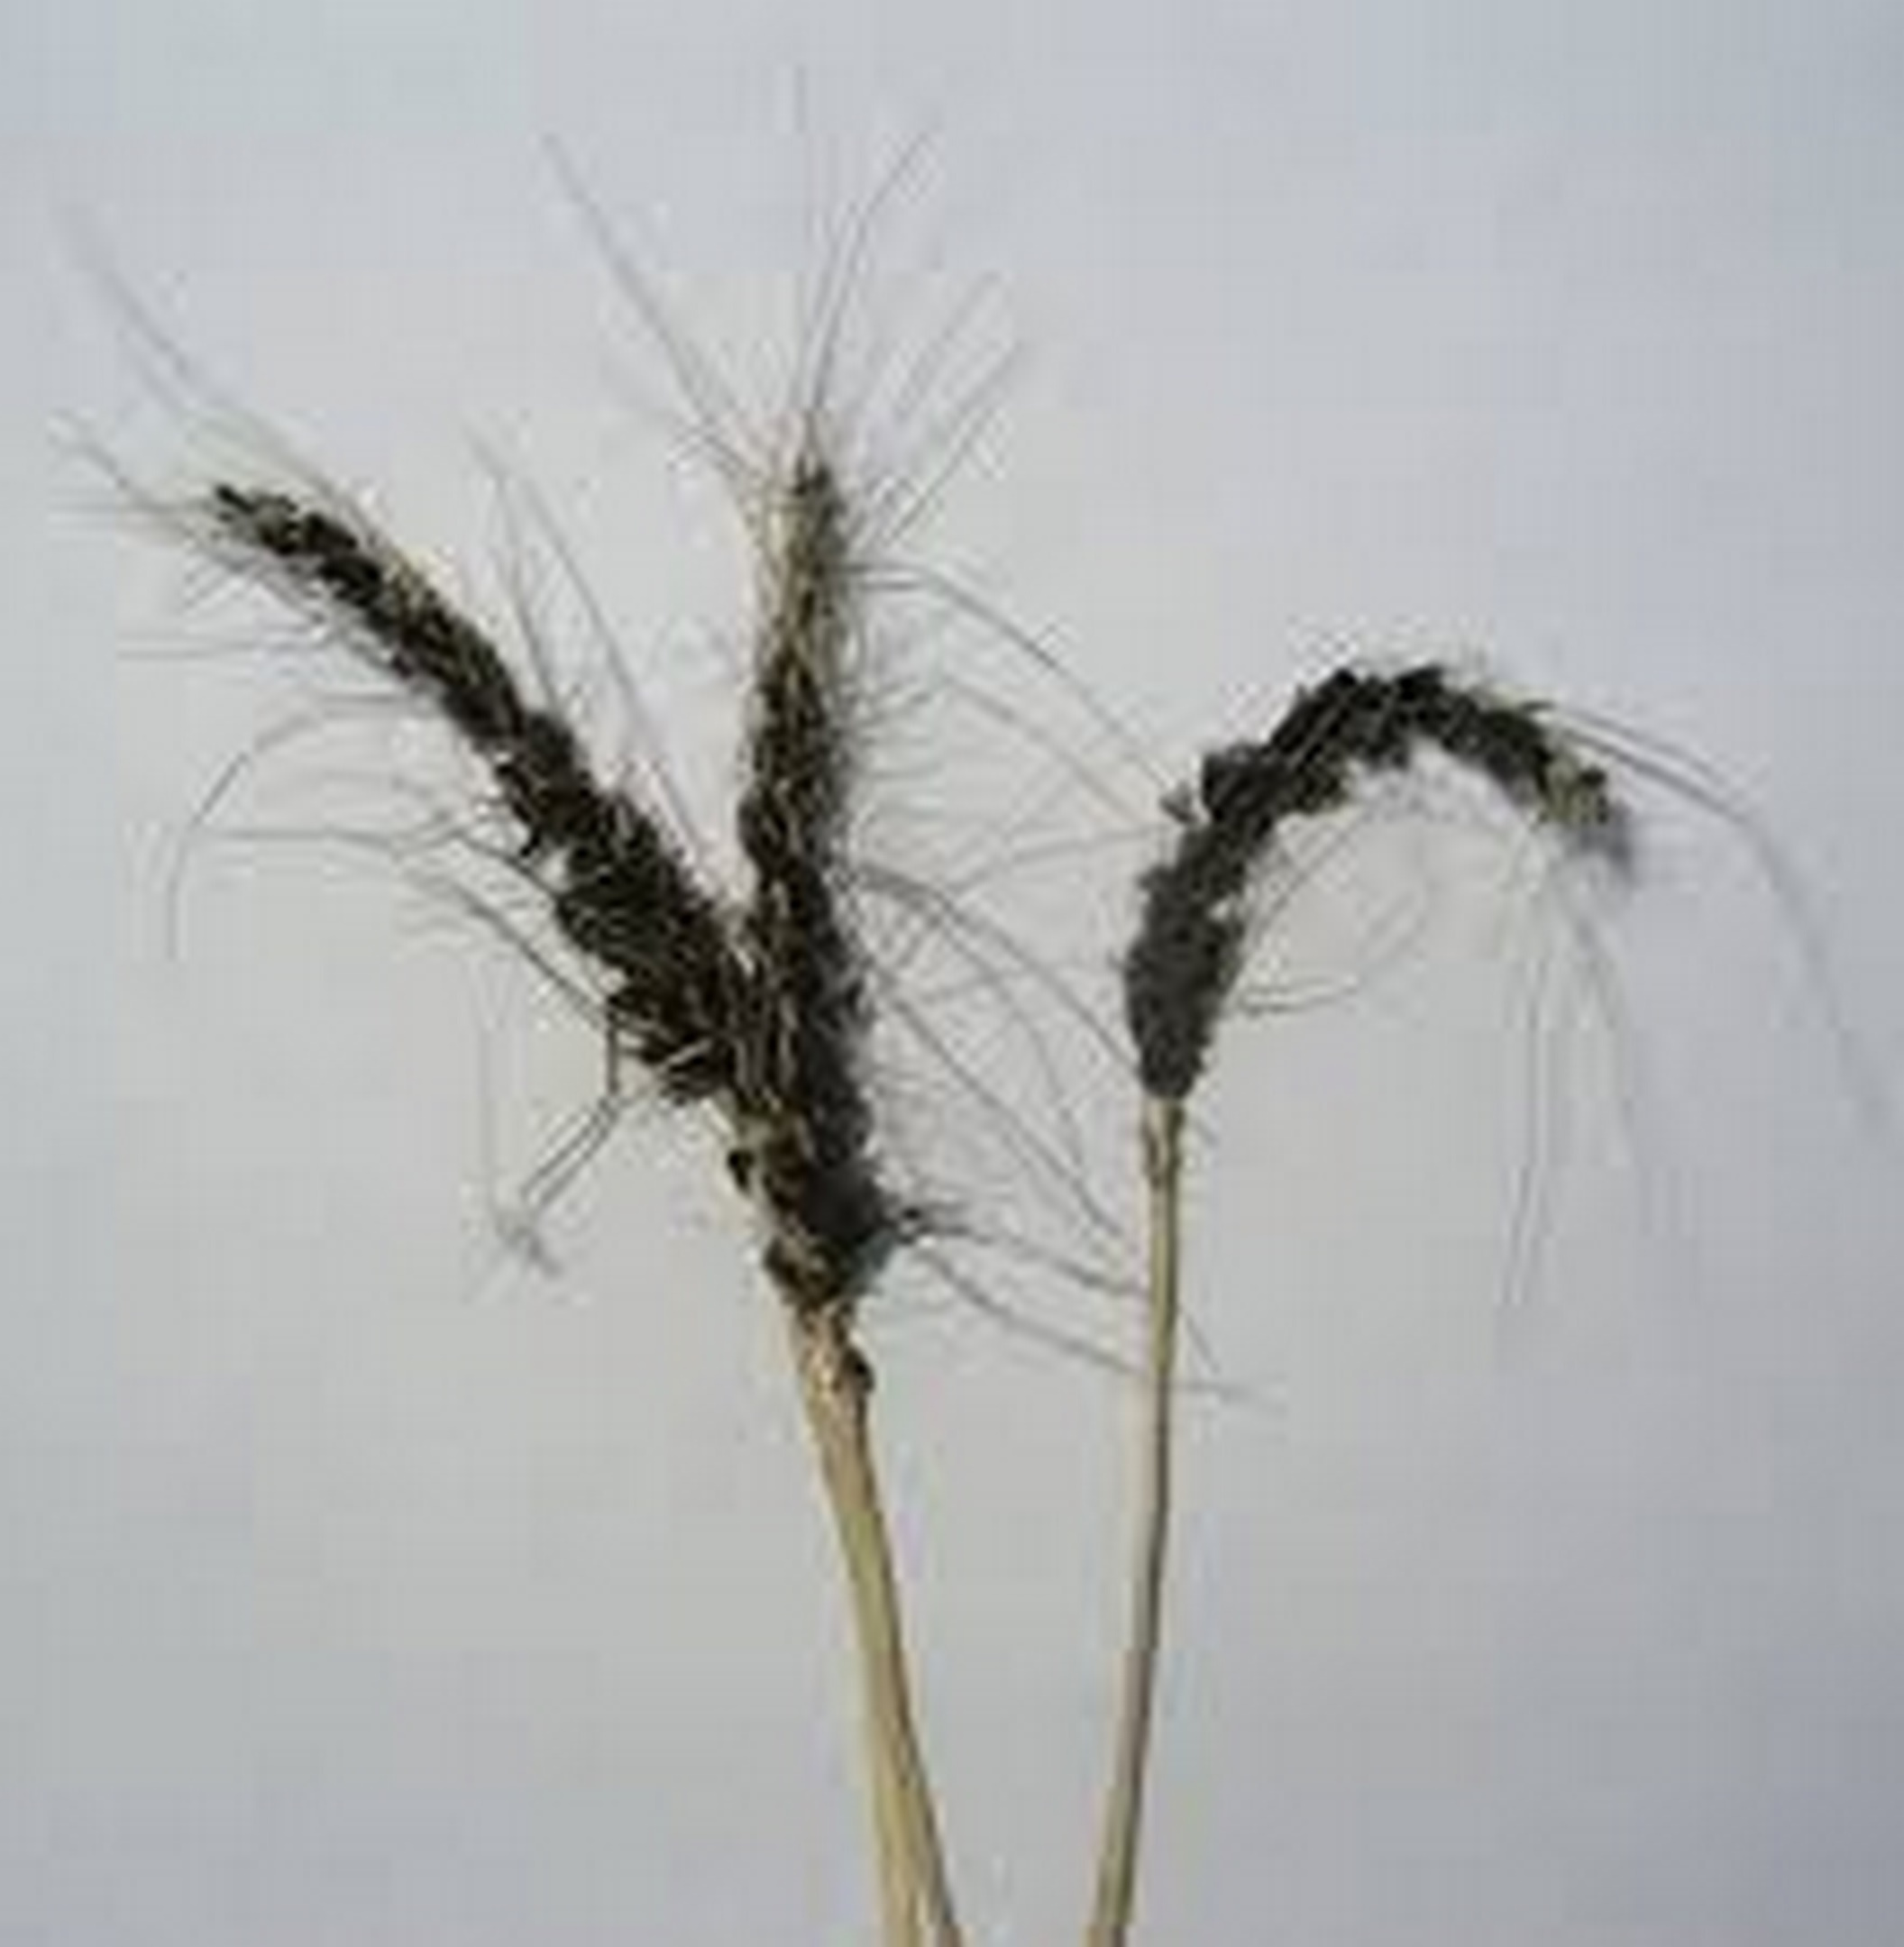Wheat Loose Smut: (213, 383, 1566, 1258)
